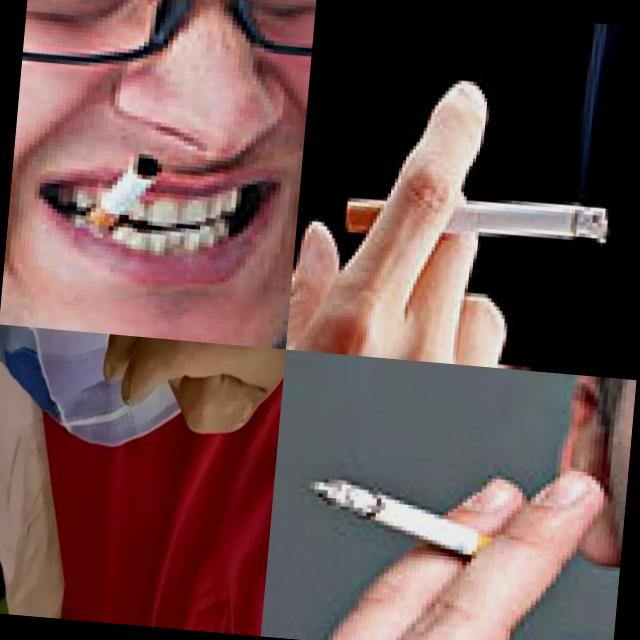cigarette: (301, 474, 528, 572), (343, 183, 609, 256), (70, 140, 168, 226)
